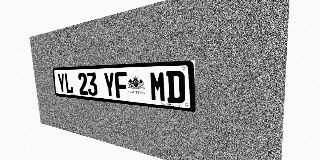2: (78, 72, 88, 95)
3: (86, 72, 98, 96)
D: (166, 71, 185, 104)
F: (114, 72, 128, 99)
L: (64, 73, 73, 94)
M: (149, 71, 167, 102)
Y: (103, 72, 116, 98), (57, 73, 66, 93)
